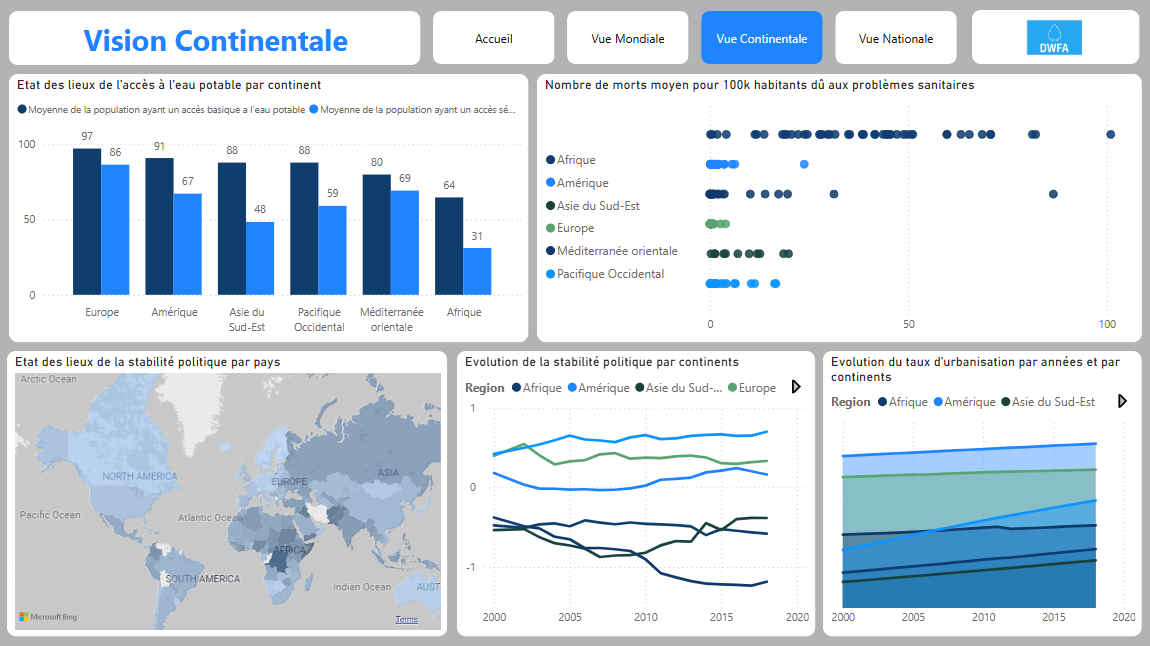

What the dashboard file says about the page in this screenshot:
{"tool":"powerbi","page":{"name":"Vue Continentale","canvas":[1280,720],"ordinal":2},"visuals":[{"type":"slicer","fields":{"Values":["Population.Year"]},"box":[792,112,184,80],"z":0},{"type":"textbox","box":[11,13,457,60],"z":1000},{"type":"scatterChart","title":"Nombre de morts moyen pour 100k habitants dû aux problèmes sanitaires","fields":{"X":["MortalityRateAttributedToWater.Mortality rate attributed to exposure to unsafe WASH services"],"Y":["RegionCountry.ScatterVertical"],"Series":["RegionCountry.Region"]},"box":[598,83,672,298],"z":2000},{"type":"clusteredColumnChart","title":"Etat des lieux de l''accès à l''eau potable par continent","fields":{"Category":["RegionCountry.Region"],"Y":["Avg(BasicAndSafelyManagedDrinkingWaterServices.Population using at least basic drinking-water services (%))","Avg(BasicAndSafelyManagedDrinkingWaterServices.Population using safely managed drinking-water services (%))"]},"box":[11,83,577,298],"z":3000},{"type":"filledMap","title":"Etat des lieux de la stabilité politique par pays","fields":{"Category":["Population.Country"]},"box":[9.3,391,488.5,316.8],"z":4000},{"type":"areaChart","title":"Evolution du taux d''urbanisation par années et par continents","fields":{"Category":["Population.Year"],"Y":["Population.Population urbaine %"],"Series":["RegionCountry.Region"]},"box":[916,391,354.1,316.8],"z":5000},{"type":"lineChart","title":"Evolution de la stabilité politique par continents","fields":{"Category":["PoliticalStability.Year"],"Y":["Avg(PoliticalStability.Political_Stability)"],"Series":["RegionCountry.Region"]},"box":[508.5,391,397.9,316.8],"z":6000},{"type":"pageNavigator","box":[482,13,585,59],"z":7000},{"type":"shape","box":[1081,12,186,60],"z":8000},{"type":"image","box":[1081,13,186,60],"z":9000}]}

Visuals, with their boxes in screenshot pixels (x1, y1, x2, y2), scaled from the page's 1280x720 canvas onto the 1150x646 screenshot:
slicer - Population.Year: [712, 100, 877, 172]
textbox: [10, 12, 420, 65]
"Nombre de morts moyen pour 100k habitants dû aux problèmes sanitaires" scatterChart: [537, 74, 1141, 342]
"Etat des lieux de l''accès à l''eau potable par continent" clusteredColumnChart: [10, 74, 528, 342]
"Etat des lieux de la stabilité politique par pays" filledMap: [8, 351, 447, 635]
"Evolution du taux d''urbanisation par années et par continents" areaChart: [823, 351, 1141, 635]
"Evolution de la stabilité politique par continents" lineChart: [457, 351, 814, 635]
pageNavigator: [433, 12, 959, 65]
shape: [971, 11, 1138, 65]
image: [971, 12, 1138, 65]
